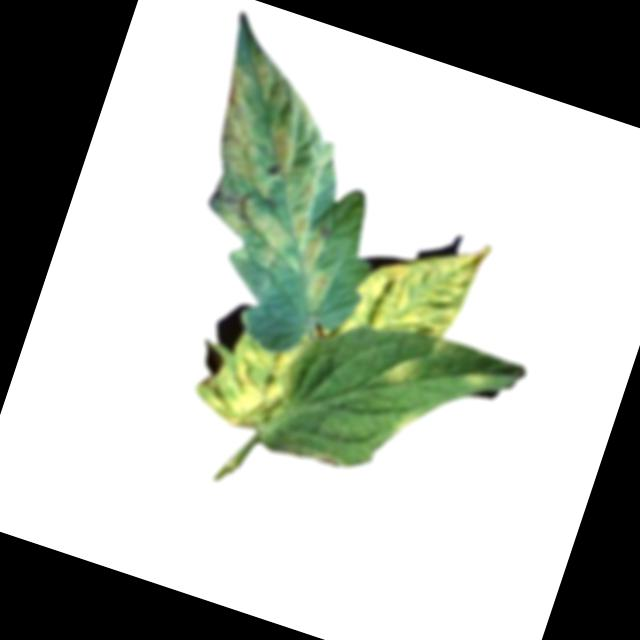Leaf_Mold: (170, 46, 393, 318), (338, 210, 493, 371), (191, 313, 311, 440), (387, 397, 432, 444), (375, 346, 418, 391), (454, 357, 496, 394)
